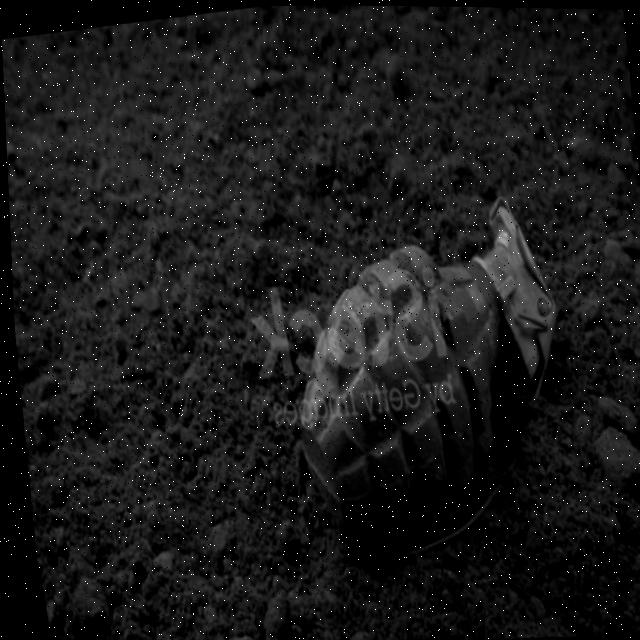grenade: (257, 190, 598, 575)
